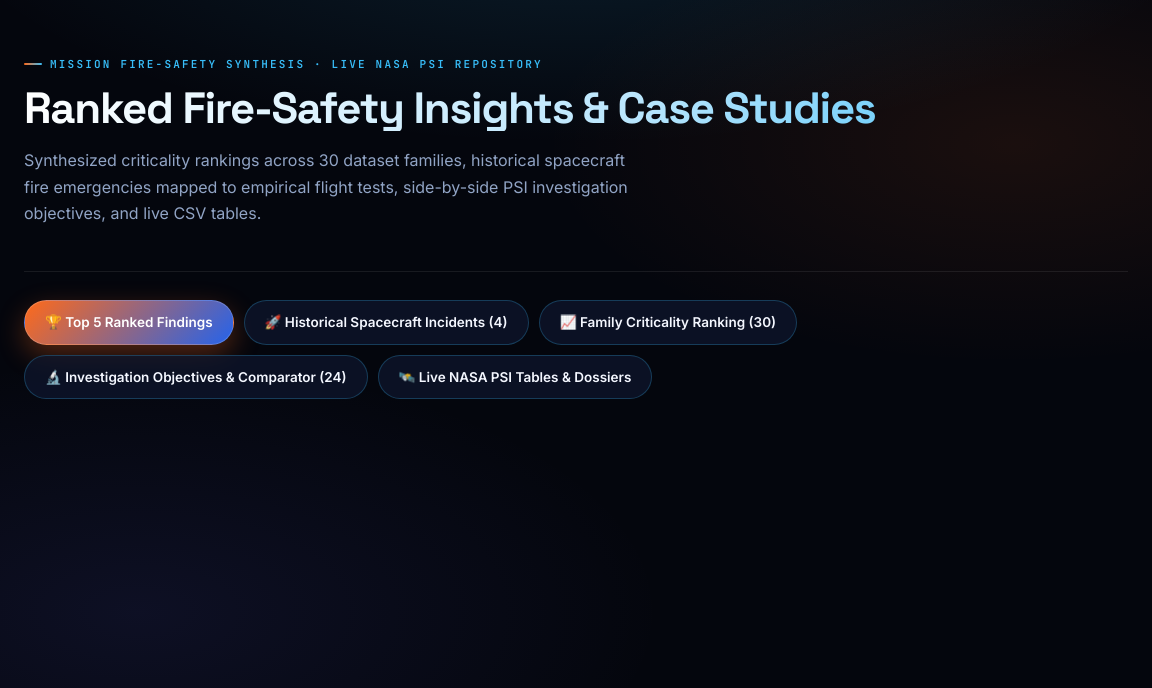
Insights Comparator & Explorer Variables Summary › renders Side-by-Side PSI Investigation Comparator and Objectives directory
Click the button "🔬 Investigation Objectives & Comparator (24)" at (196, 377), box x1=24 y1=354 x2=368 y2=399
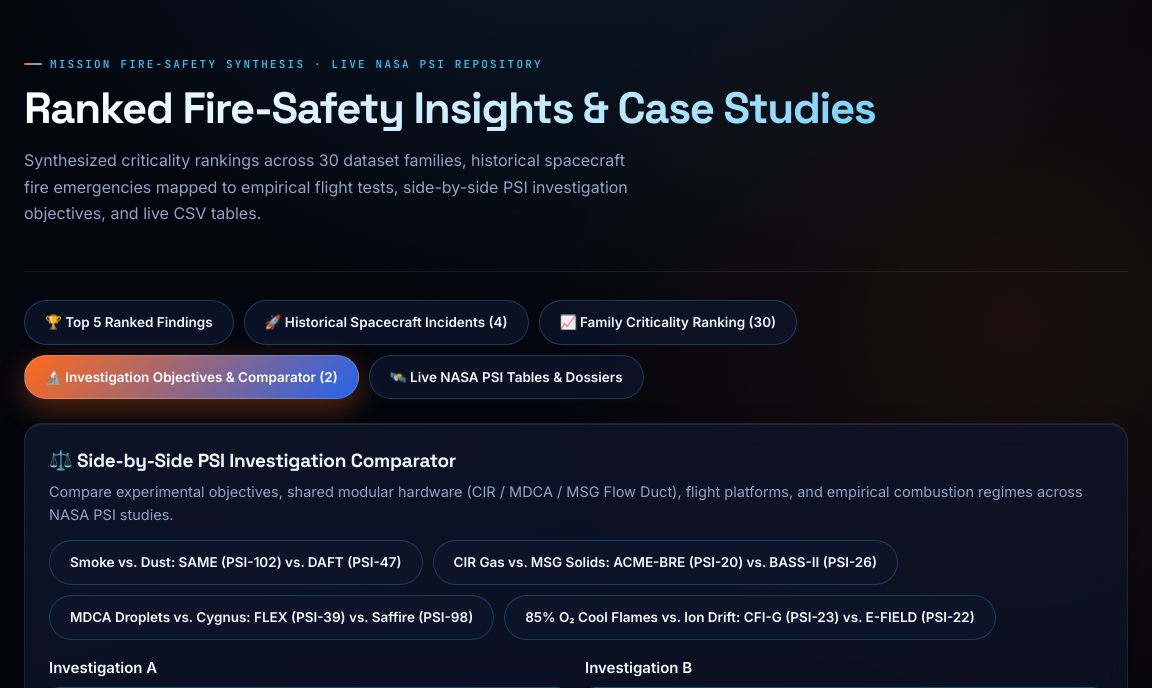
Expected: the heading "⚖️ Side-by-Side PSI Investigation Comparator" is shown, x1=49 y1=448 x2=456 y2=473
